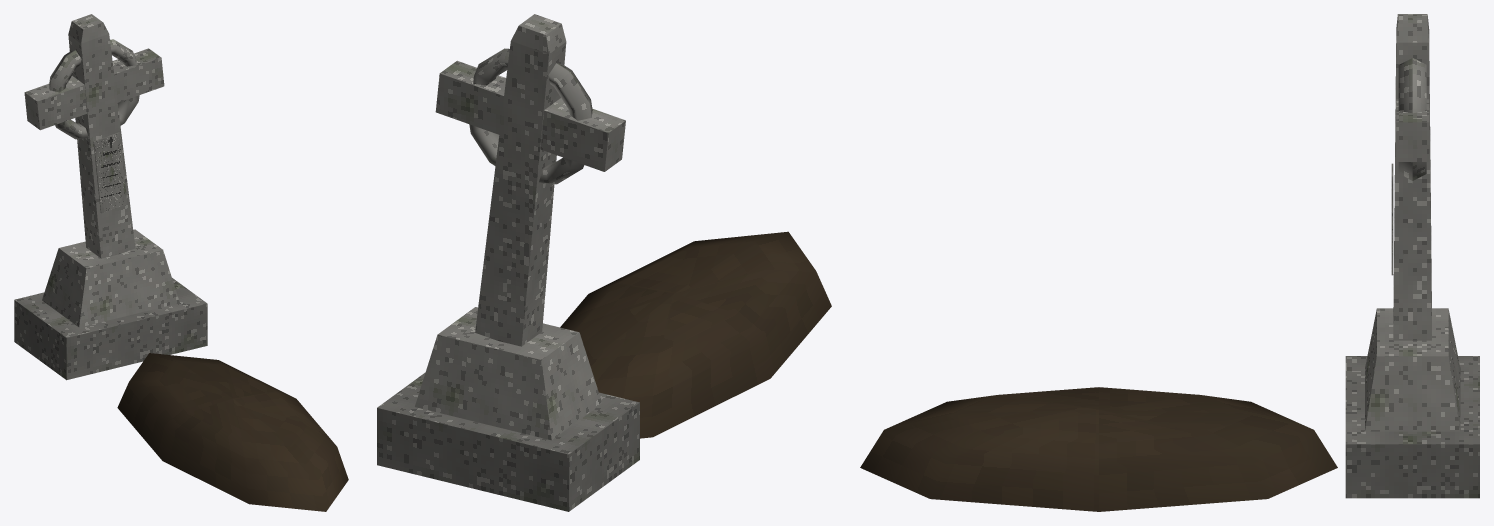
File: grave_b.glb
The picture shows the model from 3 angles, left to right: view 1: azimuth 30°, elevation 25°; view 2: azimuth 150°, elevation 25°; view 3: azimuth 270°, elevation 25°; orthographic projection. The views are drawn at different scales.
Visible parts, largest first — view 1: stone-col, detail; view 2: stone-col, detail; view 3: detail, stone-col.
Part boxes in pixels (x1,y1,x2,y2): stone-col: [14, 14, 207, 380]; detail: [117, 353, 348, 511]; stone-col: [377, 14, 639, 511]; detail: [560, 231, 831, 438]; detail: [860, 387, 1337, 511]; stone-col: [1345, 14, 1479, 498].
Size of what is drawn, in the model's own units: 0.7472 by 1.61 by 2.08.
Materials: 4 (4 with a texture image).
